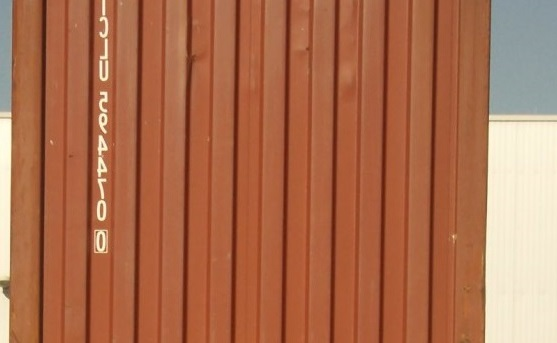container_no_door: (12, 4, 488, 343)
